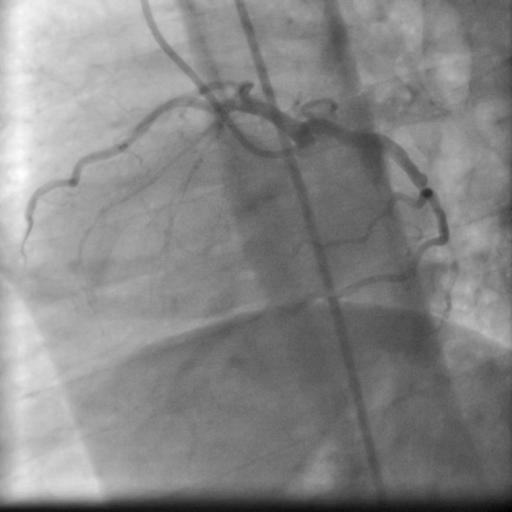Stenosis: (415, 179, 431, 192)
